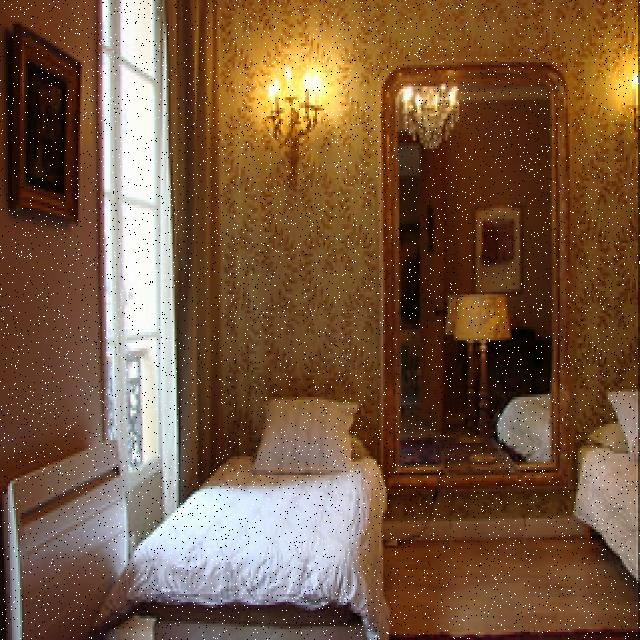bed: (134, 387, 387, 640)
